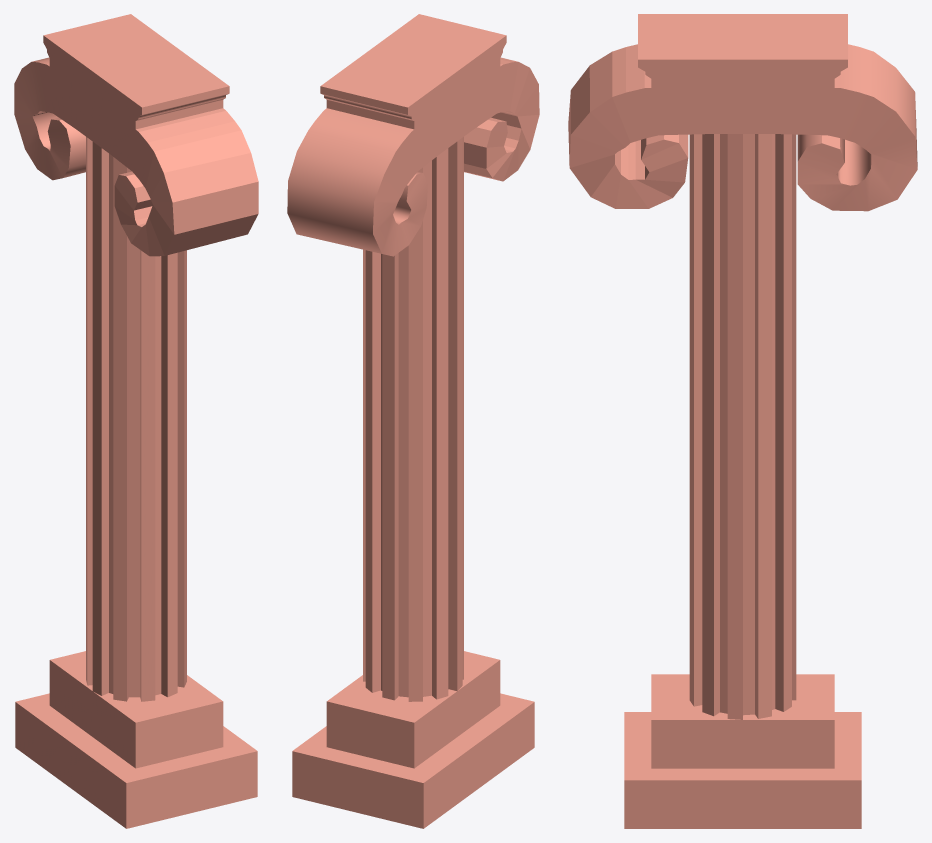
The model's file is colunasgregas.fbx.
3 renders of one model, left to right at view 1: azimuth 30°, elevation 25°; view 2: azimuth 150°, elevation 25°; view 3: azimuth 270°, elevation 25°, orthographic. The views are drawn at different scales.
Parts seen in each view (by area): view 1: pCube5; view 2: pCube5; view 3: pCube5.
Boxes of the visible parts, left/top/right/bottom form: pCube5: left=14, top=14, right=258, bottom=828; pCube5: left=287, top=14, right=539, bottom=828; pCube5: left=568, top=14, right=917, bottom=828.
Size of the model in its own units: 3 by 15.53 by 6.49.
